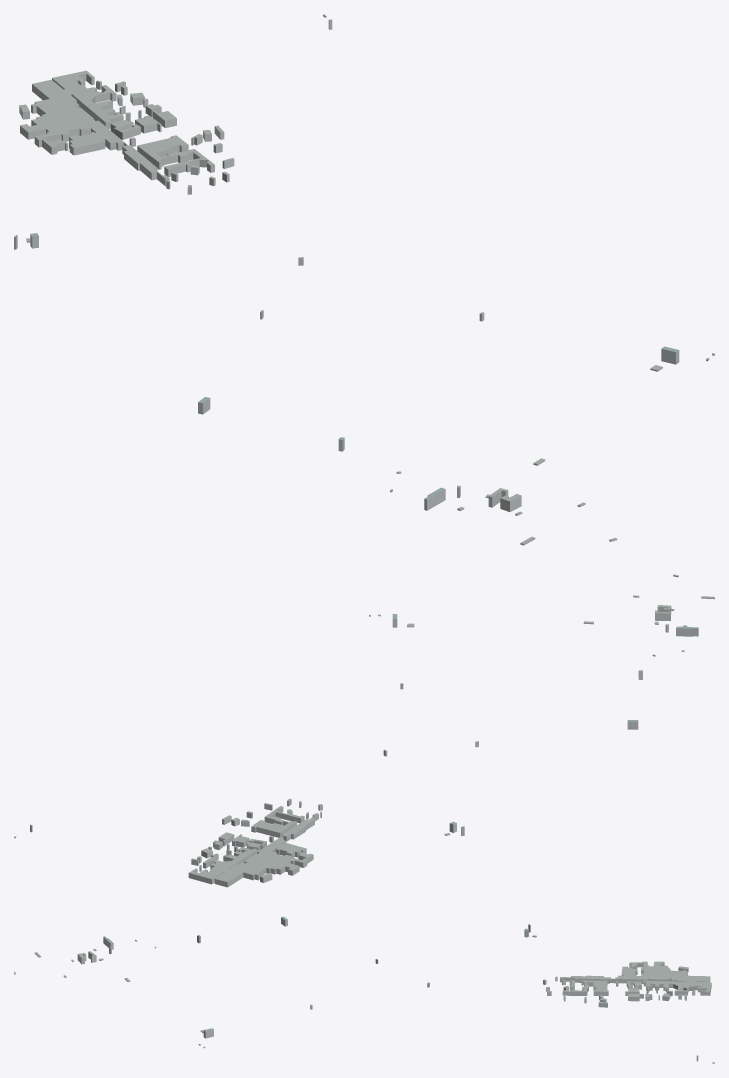
The model's file is far.glb.
The picture shows the model from 3 angles, top to bottom: view 1: azimuth 30°, elevation 25°; view 2: azimuth 150°, elevation 25°; view 3: azimuth 270°, elevation 25°; orthographic projection. The views are drawn at different scales.
Size of the model in its own units: 857 by 20.5 by 1806.
